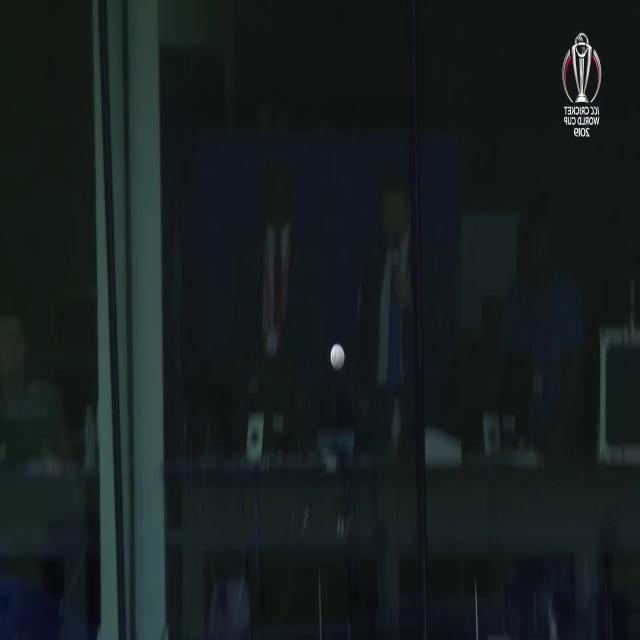ball: (326, 338, 349, 376)
